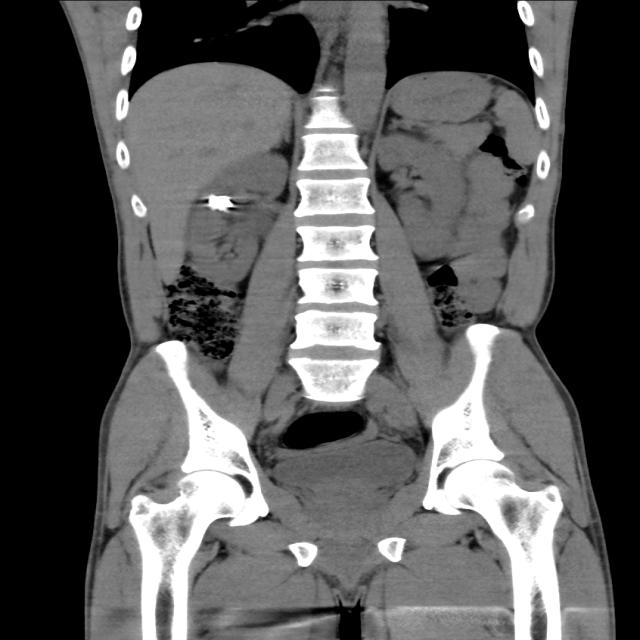kidneystone: (209, 194, 234, 211)
